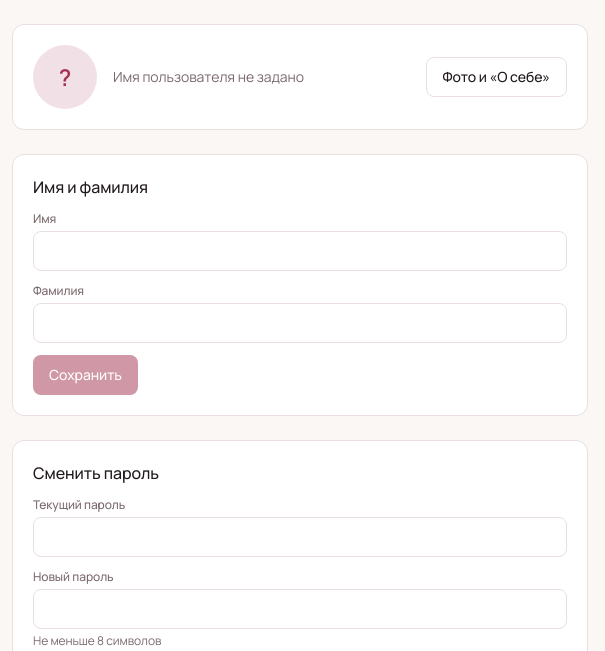
«Мой профиль»: change my own password › the button stays off until the two new passwords match
This screenshot has width=605, height=651.
In the password field labelled "Текущий пароль": {"x": 300, "y": 537} [33,517,567,557], type "old-one"
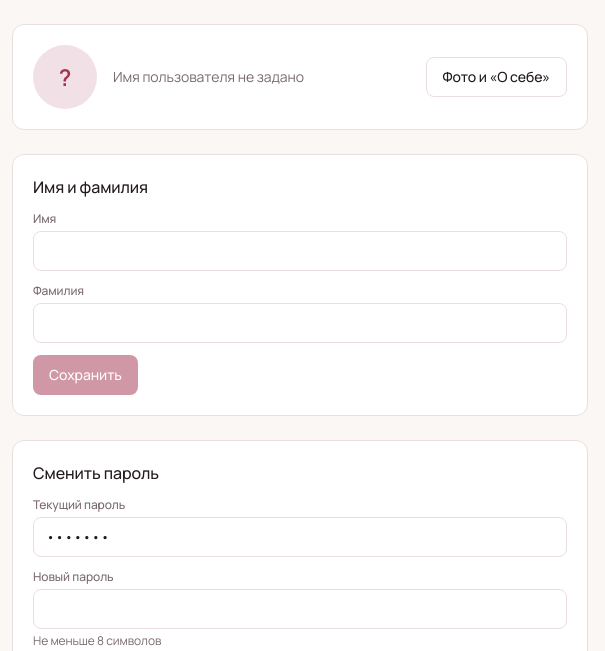
In the password field labelled "Новый пароль": {"x": 300, "y": 609} [33,589,567,629], type "New-Pass-123"
(page scrolled)
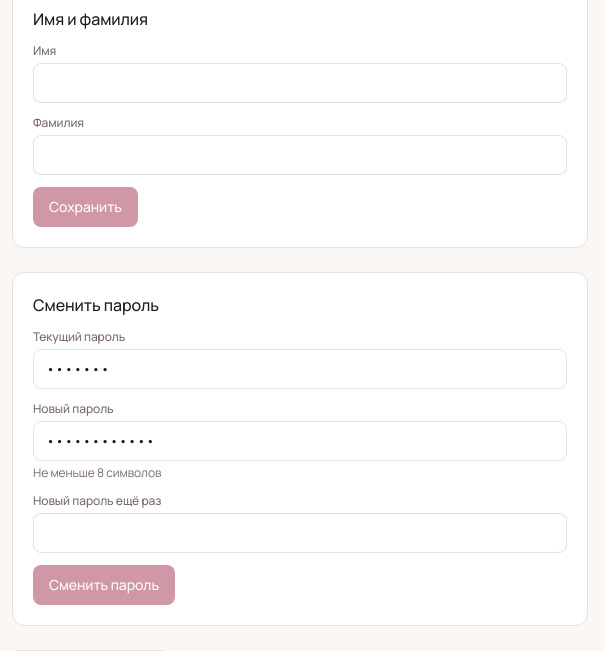
In the password field labelled "Новый пароль ещё раз": {"x": 300, "y": 533} [33,513,567,553], type "New-Pass-124"
(page scrolled)
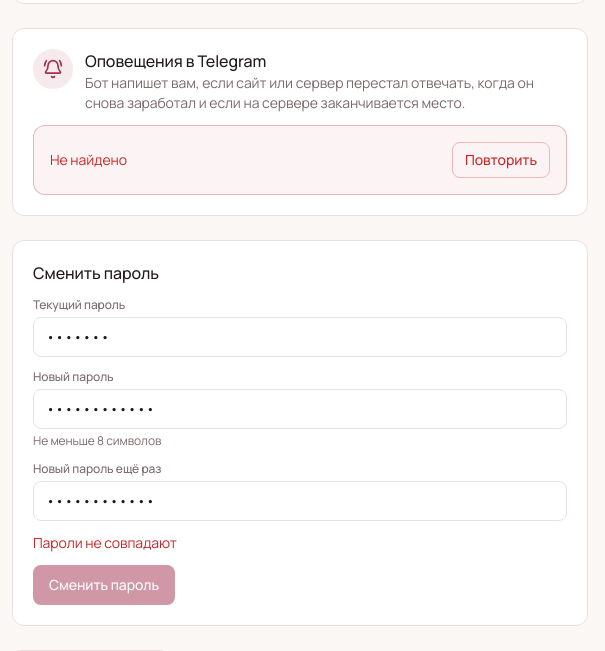
Expected: the button "Сменить пароль" is disabled, [33,565,175,605]
Now the text "Пароли не совпадают" is shown, box [33,533,177,552]
